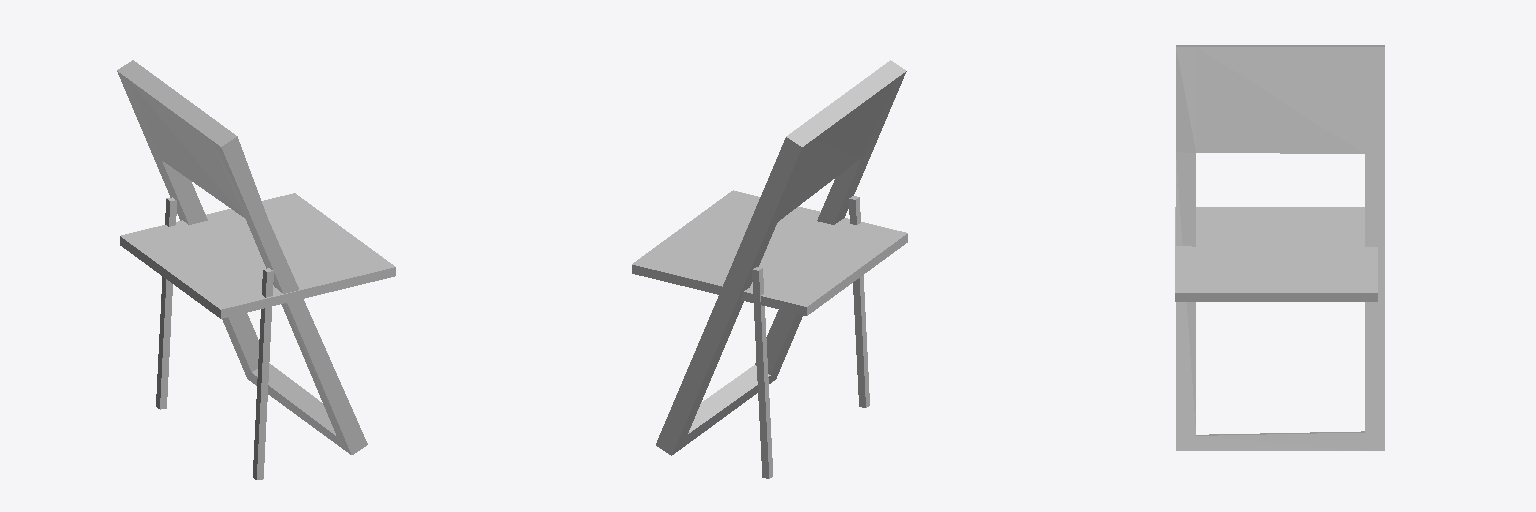
Rendered from chair.obj.
3 renders of one model, left to right at view 1: azimuth 30°, elevation 25°; view 2: azimuth 150°, elevation 25°; view 3: azimuth 270°, elevation 25°, orthographic.
Parts seen in each view (by area): view 1: Cube.004; view 2: Cube.004; view 3: Cube.004.
Boxes of the visible parts, x1,y1,x2,y2 form: Cube.004: [117, 60, 395, 479]; Cube.004: [632, 60, 907, 478]; Cube.004: [1175, 45, 1384, 450].
Size of the model in its own units: 1 by 1.91 by 1.04.